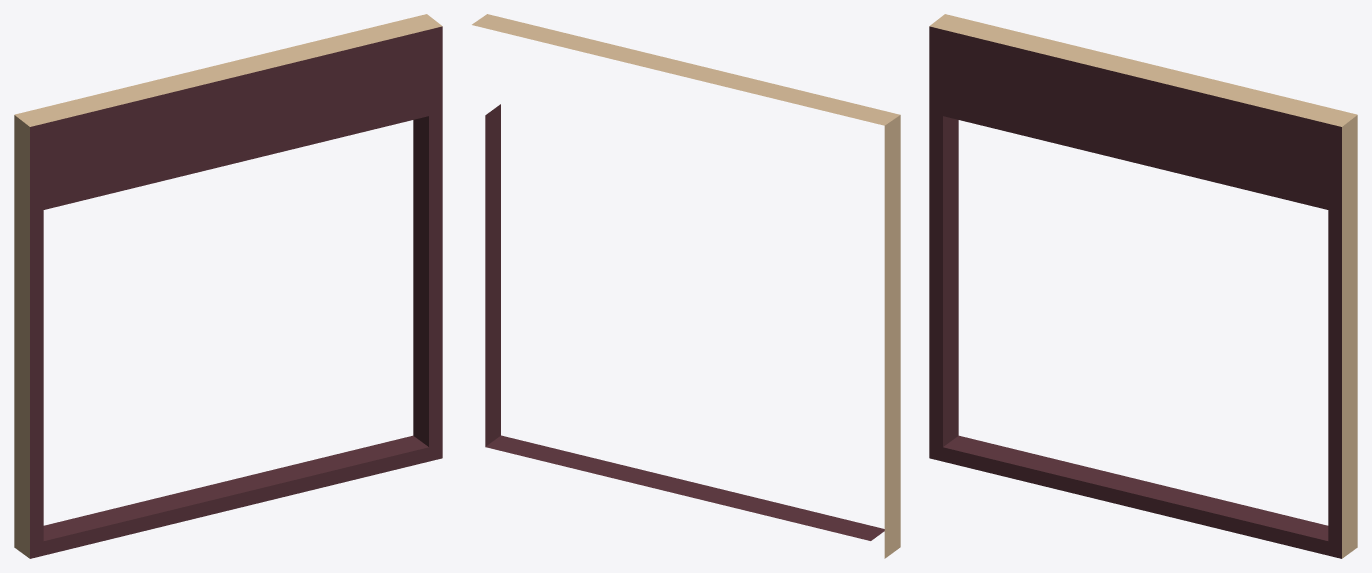
File: buildings-house-wall-door-garage-3x3m.glb
3 views of the same model, side by side, from view 1: azimuth 30°, elevation 25°; view 2: azimuth 150°, elevation 25°; view 3: azimuth 330°, elevation 25° (orthographic).
Visible parts, largest first — view 1: house-wall-door-garage-3x3m; view 2: house-wall-door-garage-3x3m; view 3: house-wall-door-garage-3x3m.
Boxes of the visible parts, box(x1,y1,x2,y2) form: house-wall-door-garage-3x3m: box(14, 14, 442, 558); house-wall-door-garage-3x3m: box(472, 14, 900, 558); house-wall-door-garage-3x3m: box(929, 14, 1357, 558).
Bounding box in the file's own units: 3 × 3.01 × 0.2.
